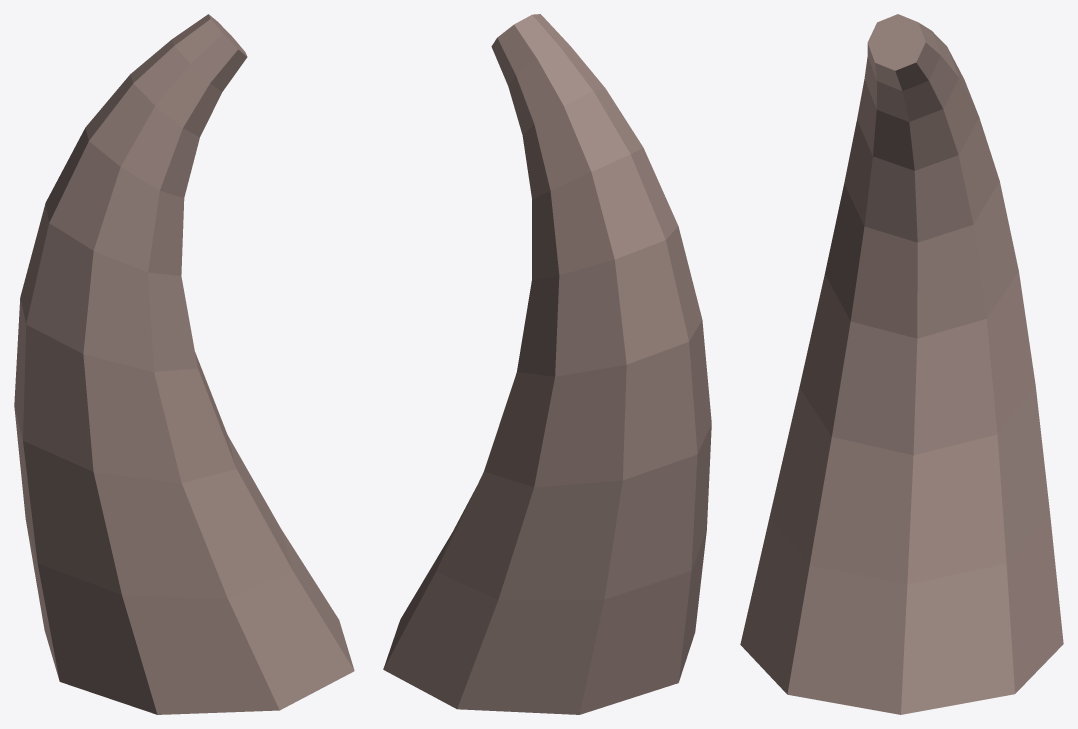
The model's file is Rock_17.fbx.
The picture shows the model from 3 angles, left to right: view 1: azimuth 30°, elevation 25°; view 2: azimuth 150°, elevation 25°; view 3: azimuth 270°, elevation 25°; orthographic projection.
Visible parts, largest first — view 1: Rock_17; view 2: Rock_17; view 3: Rock_17.
Part boxes in pixels (box(x1,y1,x2,y2)): Rock_17: box(14, 14, 354, 714); Rock_17: box(383, 14, 711, 714); Rock_17: box(740, 14, 1063, 714).
Bounding box in the file's own units: 2.89 × 5.71 × 2.62.
